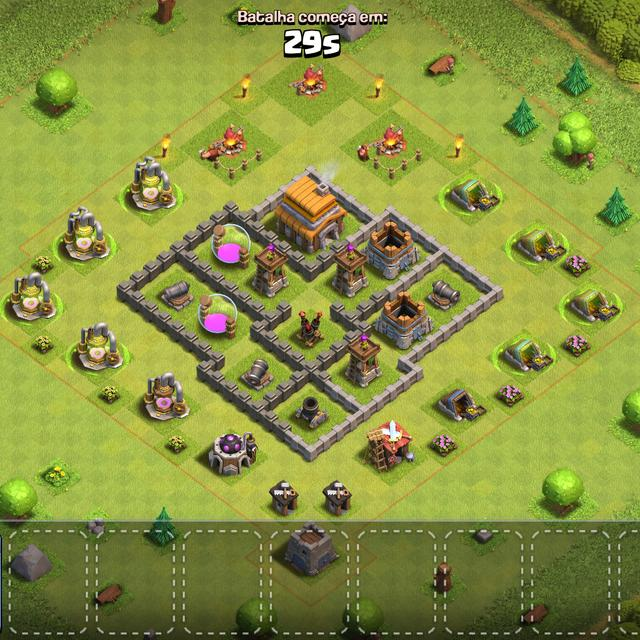Arqueira: (254, 244, 288, 296), (334, 246, 368, 296), (349, 336, 380, 385)
Canhao: (162, 279, 194, 312), (242, 359, 273, 391), (430, 279, 460, 311)
